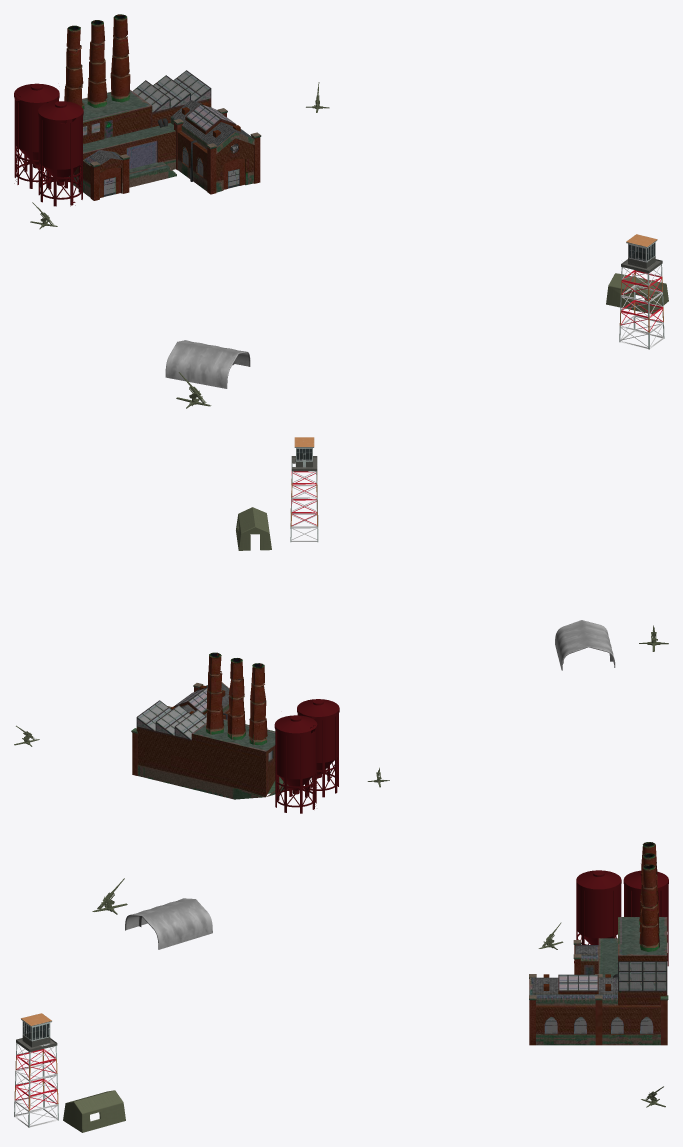
File: Yokohama.glb
3 renders of one model, top to bottom at view 1: azimuth 30°, elevation 25°; view 2: azimuth 150°, elevation 25°; view 3: azimuth 270°, elevation 25°, orthographic. The views are drawn at different scales.
Parts seen in each view (by area): view 1: Object_2, defaultMaterial.263, clothBuilding001_Material #67_0, Box001_Main Tent_0; view 2: Object_2, defaultMaterial.263, clothBuilding001_Material #67_0, Box001_Main Tent_0; view 3: Object_2, defaultMaterial.263, clothBuilding001_Material #67_0, Box001_Main Tent_0.
Part boxes in pixels (x1,y1,x2,y2): Object_2: (14, 14, 261, 206); defaultMaterial.263: (619, 234, 664, 349); clothBuilding001_Material #67_0: (165, 340, 250, 388); Box001_Main Tent_0: (606, 273, 668, 313); Object_2: (131, 652, 339, 813); defaultMaterial.263: (290, 437, 318, 542); clothBuilding001_Material #67_0: (555, 620, 615, 670); Box001_Main Tent_0: (236, 507, 271, 550); Object_2: (529, 842, 668, 1045); defaultMaterial.263: (14, 1013, 58, 1127); clothBuilding001_Material #67_0: (125, 898, 212, 949); Box001_Main Tent_0: (63, 1090, 125, 1132).
Size of the model in its own units: 206 by 62.49 by 249.
Materials: 15 (6 with a texture image).
